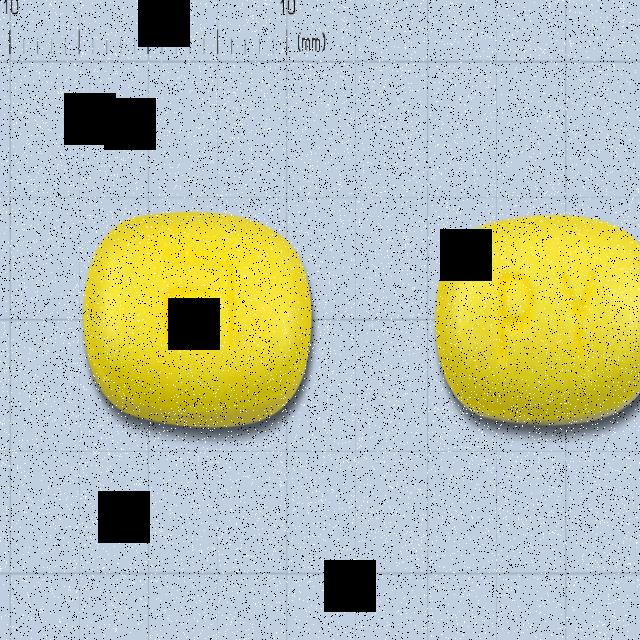Pilocin Tab: (82, 213, 312, 428), (435, 217, 640, 424)
